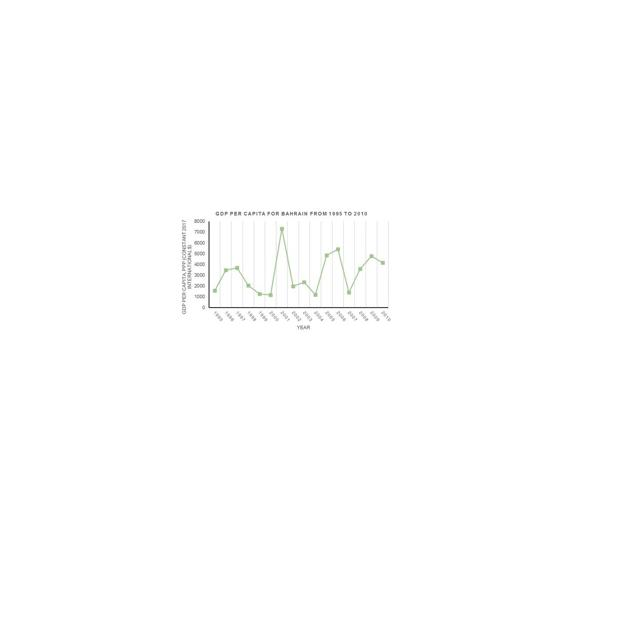Graph: (178, 208, 392, 332)
